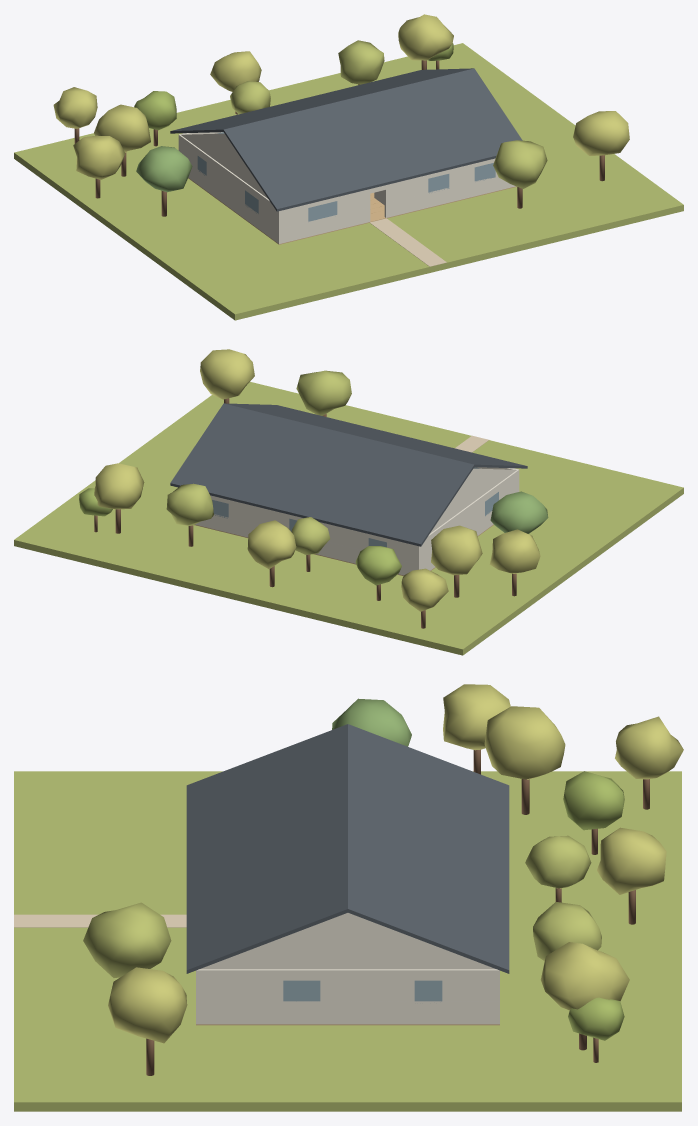
The model's file is example-home.glb.
3 views of the same model, one above another, from view 1: azimuth 30°, elevation 25°; view 2: azimuth 150°, elevation 25°; view 3: azimuth 270°, elevation 25° (orthographic). The views are drawn at different scales.
Visible parts, largest first — view 1: terrain, o_roof, o_trees, o_walls_upper, o_walls_lower, floor; view 2: terrain, o_roof, o_trees, o_walls_upper, o_walls_lower; view 3: terrain, o_roof, o_trees, o_walls_upper, o_walls_lower.
Part boxes in pixels (<box>): terrain: <box>14,43,683,320</box>; o_roof: <box>170,68,522,211</box>; o_trees: <box>53,14,629,216</box>; o_walls_upper: <box>178,132,497,228</box>; o_walls_lower: <box>188,165,515,243</box>; floor: <box>188,177,516,244</box>; terrain: <box>14,382,683,655</box>; o_roof: <box>170,403,527,546</box>; o_trees: <box>79,349,548,628</box>; o_walls_upper: <box>210,467,519,563</box>; o_walls_lower: <box>195,491,519,575</box>; terrain: <box>14,771,681,1111</box>; o_roof: <box>186,724,509,973</box>; o_trees: <box>83,684,683,1075</box>; o_walls_upper: <box>196,969,499,1003</box>; o_walls_lower: <box>196,1001,499,1024</box>.
Size of the model in its own units: 34.44 by 6.22 by 29.09.
